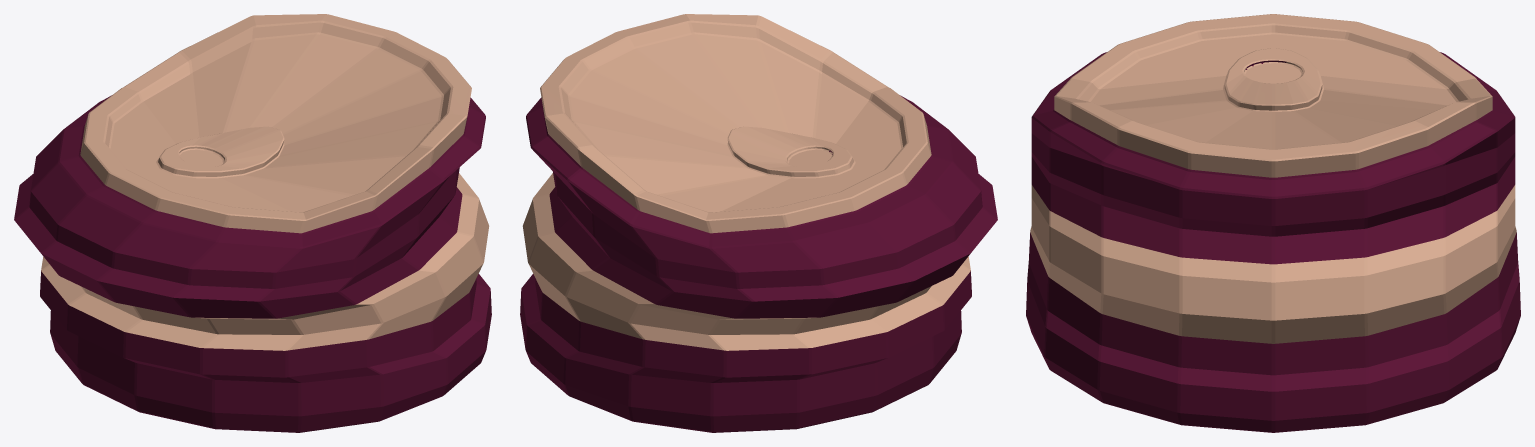
The model's file is Can_3_Partyassets.fbx.
3 views of the same model, side by side, from view 1: azimuth 30°, elevation 25°; view 2: azimuth 150°, elevation 25°; view 3: azimuth 270°, elevation 25° (orthographic). The views are drawn at different scales.
Visible parts, largest first — view 1: Can_3_Partyassets; view 2: Can_3_Partyassets; view 3: Can_3_Partyassets.
Boxes of the visible parts, box(x1,y1,x2,y2) form: Can_3_Partyassets: box(14, 14, 491, 432); Can_3_Partyassets: box(520, 14, 997, 432); Can_3_Partyassets: box(1026, 14, 1520, 432).
Size of the model in its own units: 7.89 by 4.42 by 7.21.
